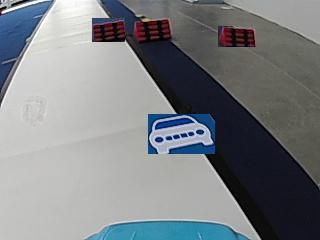bomb: (132, 17, 172, 41)
